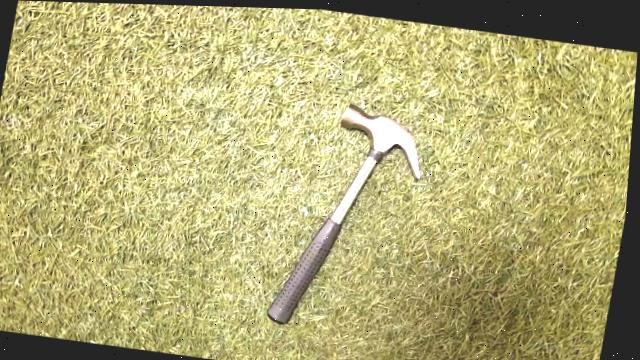hammer: (243, 90, 440, 352)
